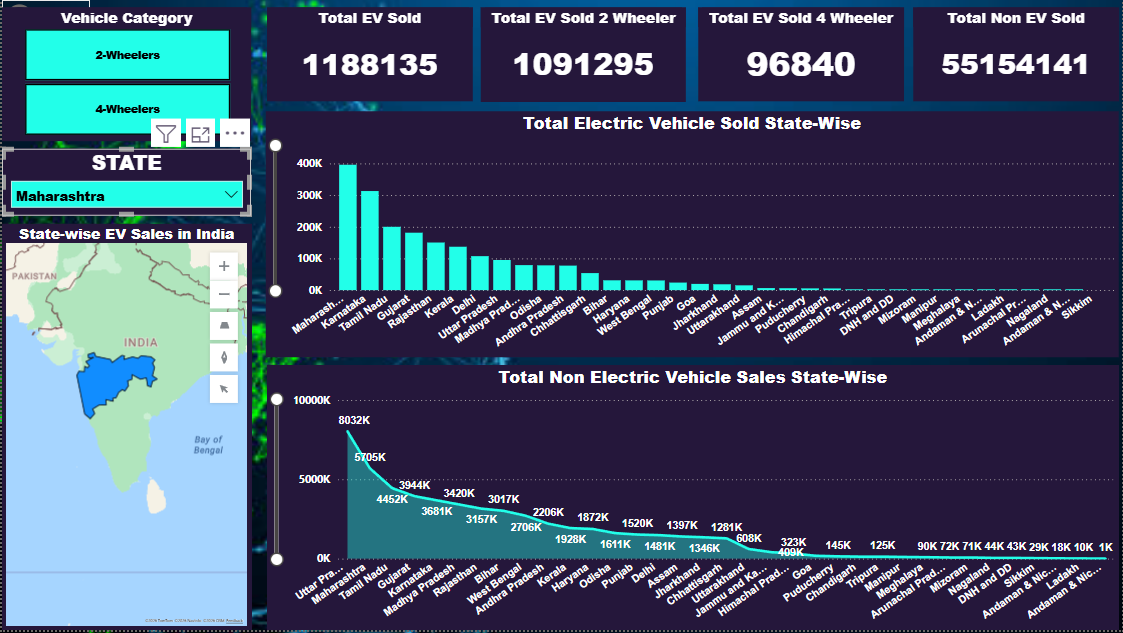

The dashboard page shown, as its layout file describes it:
{"tool":"powerbi","page":{"name":"State wise ev sale","canvas":[1280,720],"ordinal":1},"visuals":[{"type":"lineStackedColumnComboChart","title":"Total Electric Vehicle Sold State-Wise","fields":{"Category":["public sales_by_state.state"],"Y":["Sum(public sales_by_state.ev_sold)"]},"box":[301.6,127.1,974.5,280.6],"z":0},{"type":"areaChart","title":"Total Non Electric Vehicle Sales State-Wise","fields":{"Category":["public sales_by_state.state"],"Y":["Sum(public sales_by_state.non_ev_sold)"]},"box":[302.5,417.5,973.8,302.5],"z":1000},{"type":"cardVisual","title":"Total EV Sold","fields":{"Data":["Sum(public state_summary.ev_sold_total)"]},"box":[302.5,8.8,235,107.5],"z":2000},{"type":"cardVisual","title":"Total Non EV Sold","fields":{"Data":["Sum(public sales_by_state.non_ev_sold)"]},"box":[1041.2,8.8,235,107.5],"z":3000},{"type":"cardVisual","title":"Total EV Sold 4 Wheeler","fields":{"Data":["Sum(public state_summary.ev_sold_4w)"]},"box":[795,8.8,235,107.5],"z":4000},{"type":"actionButton","box":[0,0,100,40],"z":5000},{"type":"slicer","title":"Vehicle Category","fields":{"Values":["public sales_by_state.vehicle_category"]},"box":[0,8.8,285,152.5],"z":6000},{"type":"slicer","title":"STATE","fields":{"Values":["public state_summary.state"]},"box":[0,170,284.9,77],"z":7000},{"type":"azureMap","title":"State-wise EV Sales in India","fields":{"Category":["public state_summary.state"]},"box":[0,255.6,284.9,464.7],"z":8000},{"type":"cardVisual","title":"Total EV Sold 2 Wheeler","fields":{"Data":["Sum(public state_summary.ev_sold_2w)"]},"box":[546.6,8.6,234.8,107.6],"z":9000}]}

Visuals, with their boxes in screenshot pixels (x1, y1, x2, y2), scaled from the page's 1280x720 canvas onto the 1123x633 screenshot:
"Total Electric Vehicle Sold State-Wise" lineStackedColumnComboChart: 265:112:1120:358
"Total Non Electric Vehicle Sales State-Wise" areaChart: 265:367:1120:632
"Total EV Sold" cardVisual: 265:8:472:102
"Total Non EV Sold" cardVisual: 913:8:1120:102
"Total EV Sold 4 Wheeler" cardVisual: 697:8:904:102
actionButton: 0:0:88:35
"Vehicle Category" slicer: 0:8:250:142
"STATE" slicer: 0:149:250:217
"State-wise EV Sales in India" azureMap: 0:225:250:632
"Total EV Sold 2 Wheeler" cardVisual: 480:8:686:102
